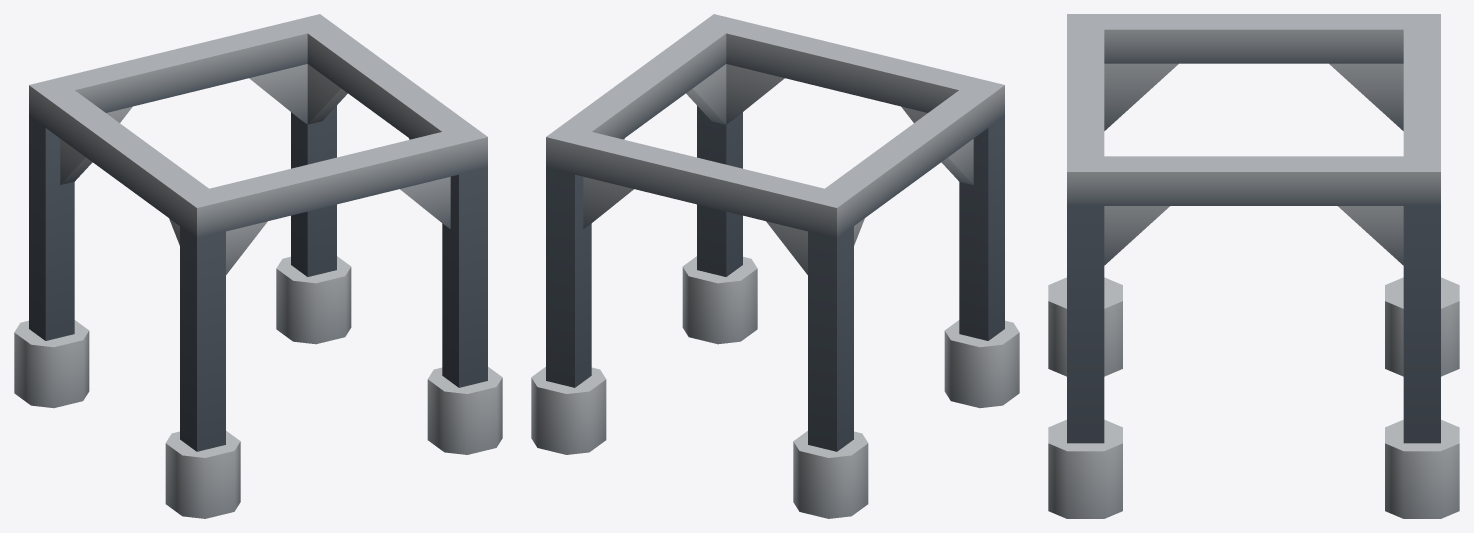
The model's file is structure-barrier.glb.
3 views of the same model, side by side, from view 1: azimuth 30°, elevation 25°; view 2: azimuth 150°, elevation 25°; view 3: azimuth 270°, elevation 25° (orthographic). The views are drawn at different scales.
Visible parts, largest first — view 1: Group; view 2: Group; view 3: Group.
Boxes of the visible parts, x1,y1,x2,y2 form: Group: (14, 14, 502, 518); Group: (531, 14, 1019, 518); Group: (1048, 14, 1459, 518).
Bounding box in the file's own units: 1.1 × 1 × 1.1.
